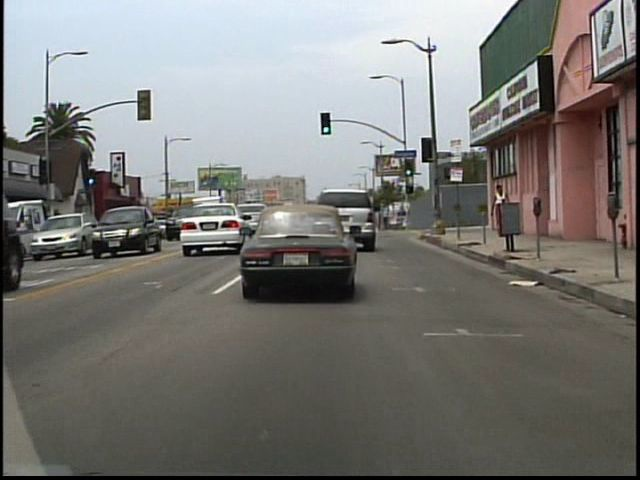person: (489, 182, 513, 239)
